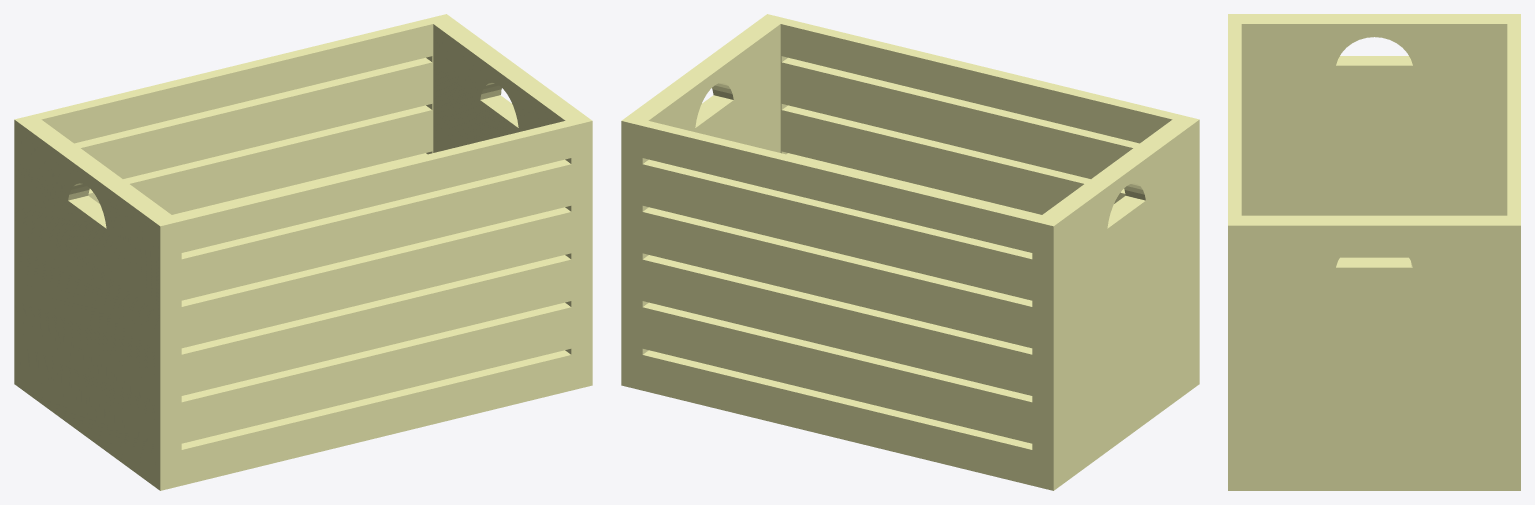
File: YellowBox.fbx
3 renders of one model, left to right at view 1: azimuth 30°, elevation 25°; view 2: azimuth 150°, elevation 25°; view 3: azimuth 270°, elevation 25°, orthographic.
Parts seen in each view (by area): view 1: Cube; view 2: Cube; view 3: Cube.
Part boxes in pixels (x1=…): Cube: x1=14, y1=14, x2=592, y2=490; Cube: x1=621, y1=14, x2=1199, y2=490; Cube: x1=1228, y1=14, x2=1520, y2=490.
Bounding box in the file's own units: 342 × 200 × 200.
